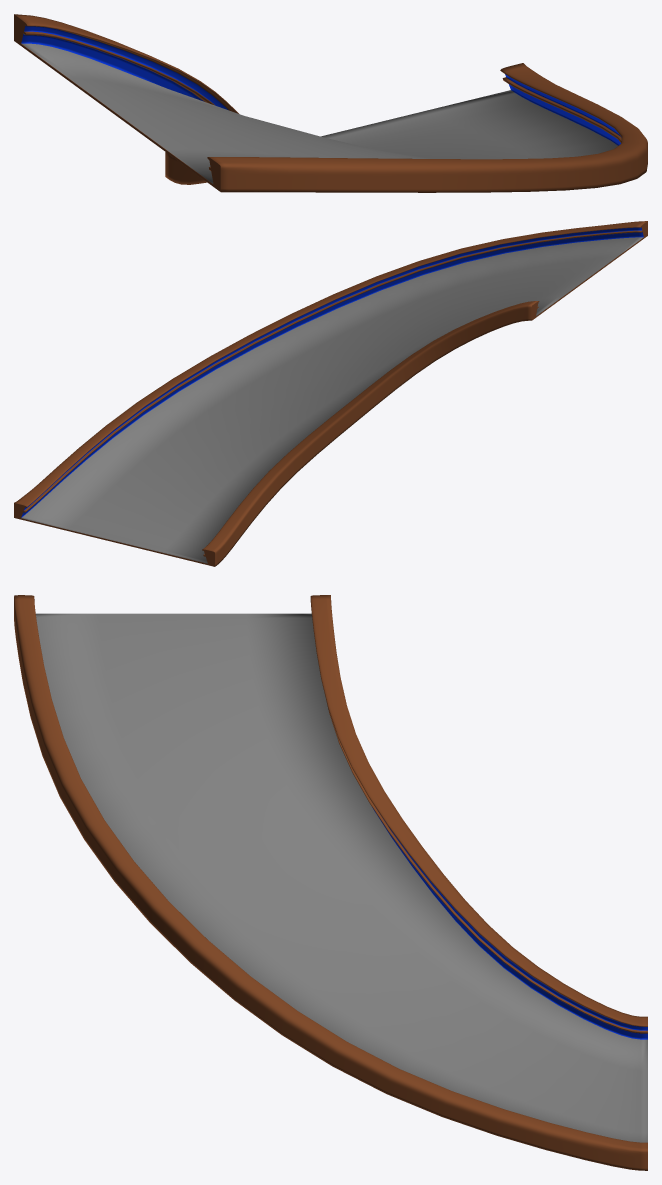
Rendered from CurvaSubida.fbx.
The picture shows the model from 3 angles, top to bottom: view 1: azimuth 30°, elevation 25°; view 2: azimuth 150°, elevation 25°; view 3: azimuth 270°, elevation 25°; orthographic projection. The views are drawn at different scales.
Visible parts, largest first — view 1: CurvaSubida; view 2: CurvaSubida; view 3: CurvaSubida.
Part boxes in pixels (bbox=[...]): CurvaSubida: bbox=[14, 14, 647, 192]; CurvaSubida: bbox=[14, 221, 647, 566]; CurvaSubida: bbox=[14, 595, 647, 1170].
Size of the model in its own units: 28 by 15 by 28.
